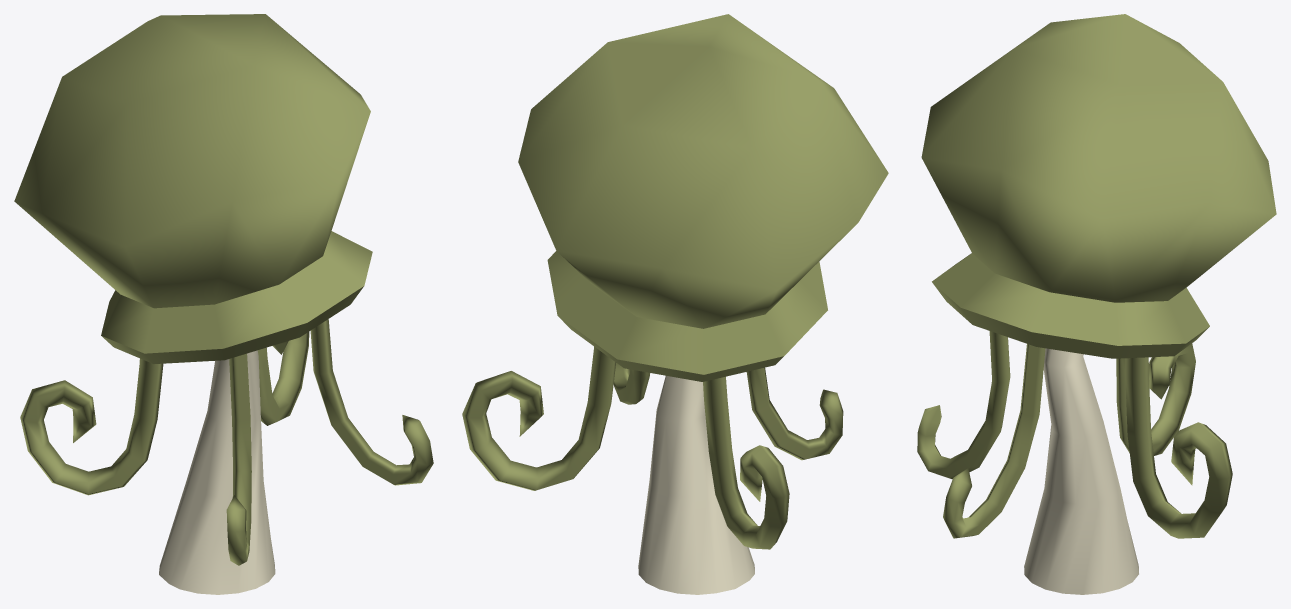
File: tree9.fbx
The picture shows the model from 3 angles, left to right: view 1: azimuth 30°, elevation 25°; view 2: azimuth 150°, elevation 25°; view 3: azimuth 270°, elevation 25°; orthographic projection.
Parts seen in each view (by area): view 1: CrownMedusa2, CrownMedusa1, TreeMedusa14_4; view 2: CrownMedusa2, CrownMedusa1, TreeMedusa14_4; view 3: CrownMedusa2, CrownMedusa1, TreeMedusa14_4.
Boxes of the visible parts, left/top/right/bottom form: CrownMedusa2: left=14, top=14, right=372, bottom=363; CrownMedusa1: left=20, top=319, right=433, bottom=565; TreeMedusa14_4: left=159, top=350, right=275, bottom=594; CrownMedusa2: left=518, top=14, right=888, bottom=381; CrownMedusa1: left=462, top=346, right=843, bottom=549; TreeMedusa14_4: left=638, top=375, right=754, bottom=594; CrownMedusa2: left=921, top=14, right=1276, bottom=358; CrownMedusa1: left=917, top=331, right=1232, bottom=538; TreeMedusa14_4: left=1024, top=348, right=1138, bottom=594.
Bounding box in the file's own units: 14.88 × 23.54 × 14.2.
